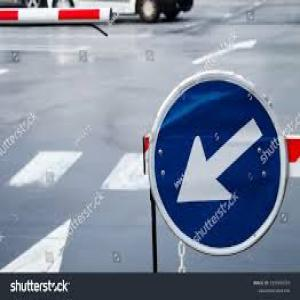keep left: (150, 69, 292, 260)
